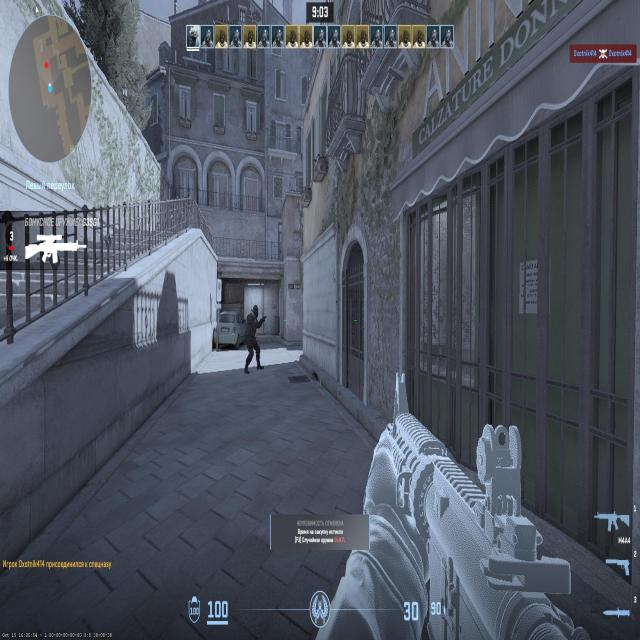CT: (247, 306, 259, 359)
CT_heat: (252, 306, 257, 320)
